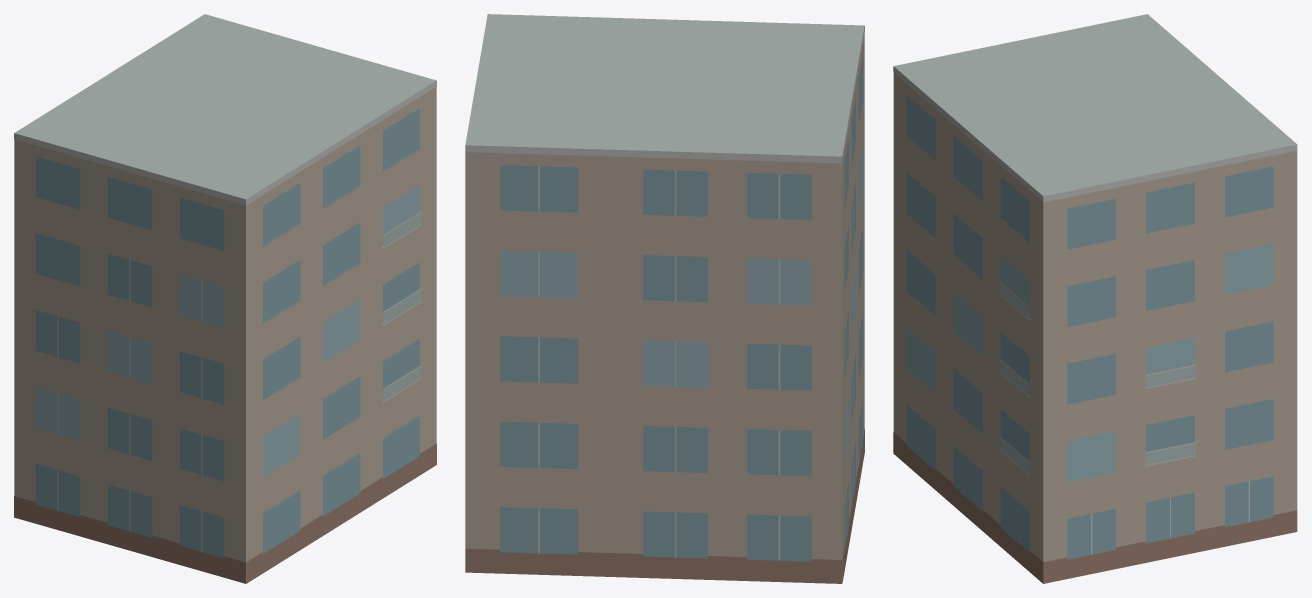
Rendered from residential-4ecf2bfa-8123-42b8-a976-ca91a9127268.glb.
The picture shows the model from 3 angles, left to right: view 1: azimuth 30°, elevation 25°; view 2: azimuth 150°, elevation 25°; view 3: azimuth 270°, elevation 25°; orthographic projection. The views are drawn at different scales.
Parts seen in each view (by area): view 1: residential-4ecf2bfa-8123-42b8-a976-ca91a9127268.tmp; view 2: residential-4ecf2bfa-8123-42b8-a976-ca91a9127268.tmp; view 3: residential-4ecf2bfa-8123-42b8-a976-ca91a9127268.tmp.
Part boxes in pixels (box(x1,y1,x2,y2)): residential-4ecf2bfa-8123-42b8-a976-ca91a9127268.tmp: box(14, 14, 436, 583); residential-4ecf2bfa-8123-42b8-a976-ca91a9127268.tmp: box(465, 14, 864, 583); residential-4ecf2bfa-8123-42b8-a976-ca91a9127268.tmp: box(893, 14, 1297, 583).
Size of the model in its own units: 15.41 by 15.25 by 14.42.
